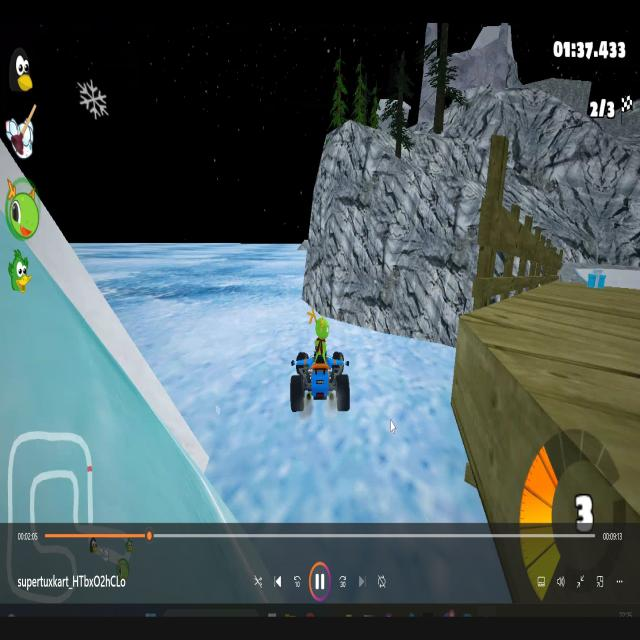bonus: (584, 270, 606, 288)
off_track: (111, 220, 347, 311)
player_kart: (277, 324, 354, 422)
track: (480, 299, 640, 413)
